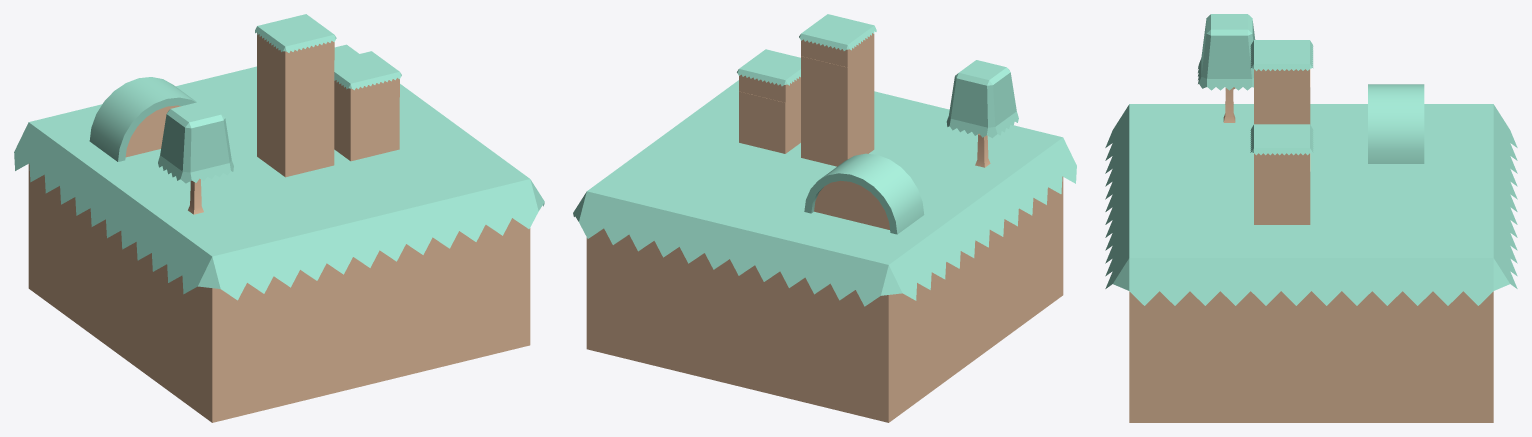
File: FloatingIsland1.fbx
3 renders of one model, left to right at view 1: azimuth 30°, elevation 25°; view 2: azimuth 150°, elevation 25°; view 3: azimuth 270°, elevation 25°, orthographic. The views are drawn at different scales.
Visible parts, largest first — view 1: Island1; view 2: Island1; view 3: Island1.
Part boxes in pixels (<box>): Island1: <box>14,14,544,422</box>; Island1: <box>573,14,1076,422</box>; Island1: <box>1105,14,1517,422</box>.
Size of the model in its own units: 735 by 579 by 735.
